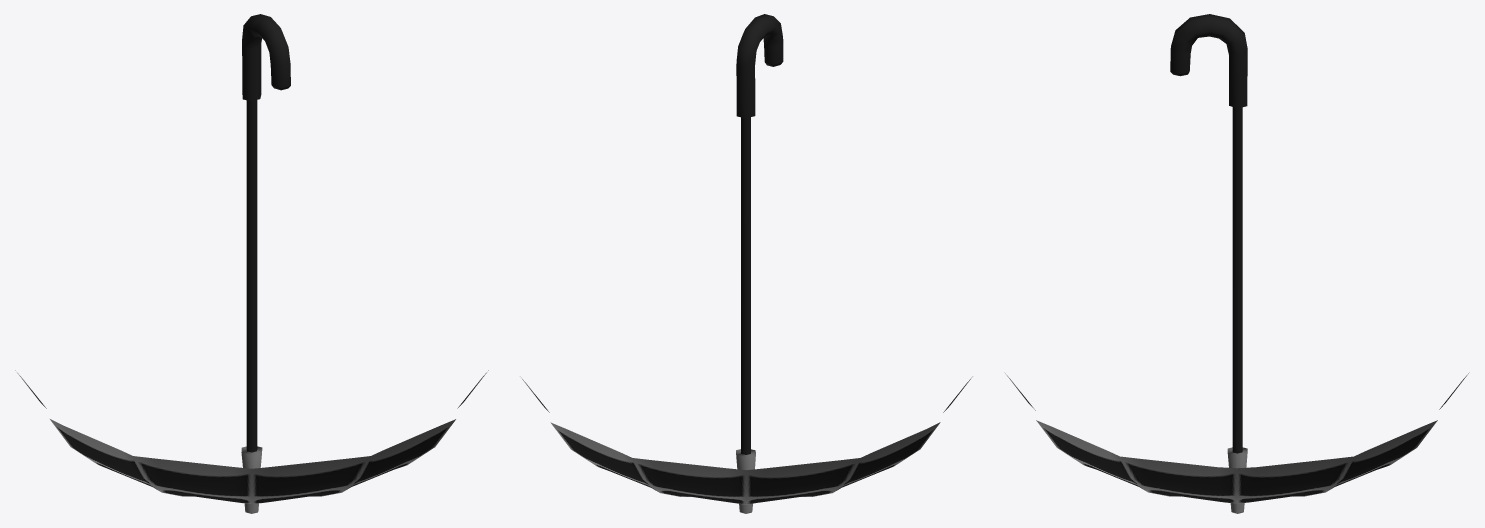
File: UmbrellaSpider0.glb
3 views of the same model, side by side, from view 1: azimuth 30°, elevation 25°; view 2: azimuth 150°, elevation 25°; view 3: azimuth 270°, elevation 25° (orthographic). The views are drawn at different scales.
Parts seen in each view (by area): view 1: Pole__mUmbrella; view 2: Pole__mUmbrella; view 3: Pole__mUmbrella.
Boxes of the visible parts, x1,y1,x2,y2 form: Pole__mUmbrella: (15,14,488,513); Pole__mUmbrella: (520,14,972,513); Pole__mUmbrella: (1004,14,1469,513).
Size of the model in its own units: 14.29 by 16.94 by 14.51.
1 material, 1 textured.
